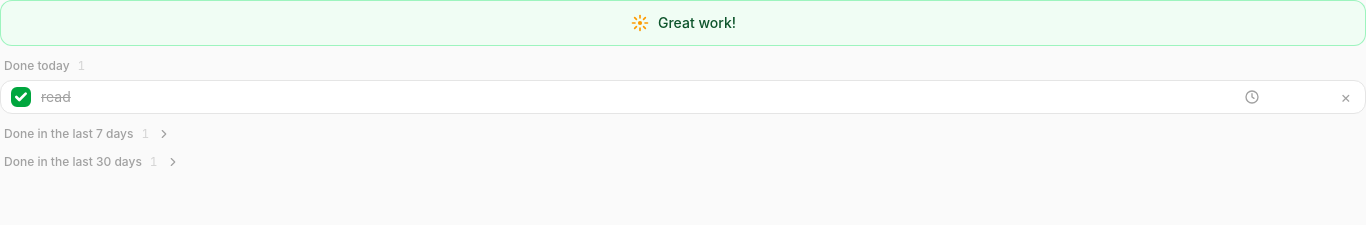
Scenario: done spans folded away behind their headings (TASK-72) › opens a span from its heading and folds it again, leaving the others as they are
Click the button "Done in the last 7 days 1": (88, 134) [4,120,171,148]
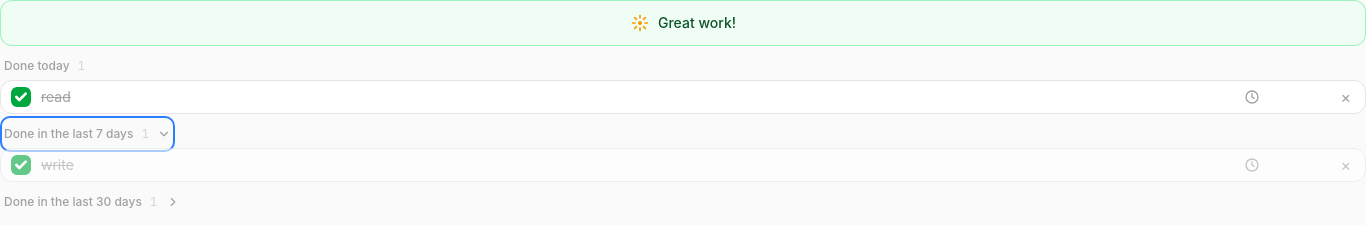
Result: the button "write" is shown at [41,155,87,175]
Click the button "Done in the last 7 days 1": (88, 134) [4,120,171,148]
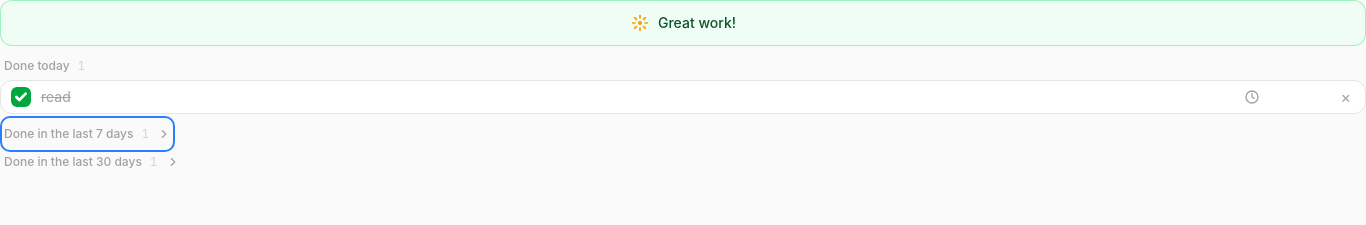
Result: the button "write" is gone
